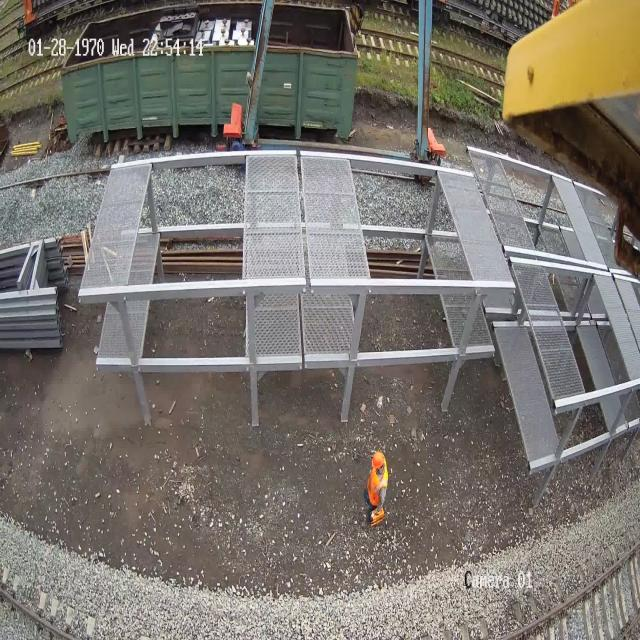Helmet: (372, 450, 385, 472)
Person: (364, 451, 388, 526)
